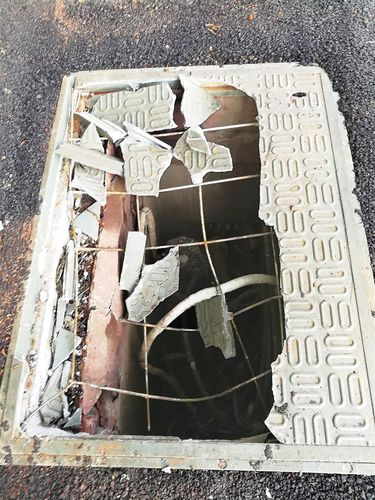broke: (9, 47, 372, 485)
